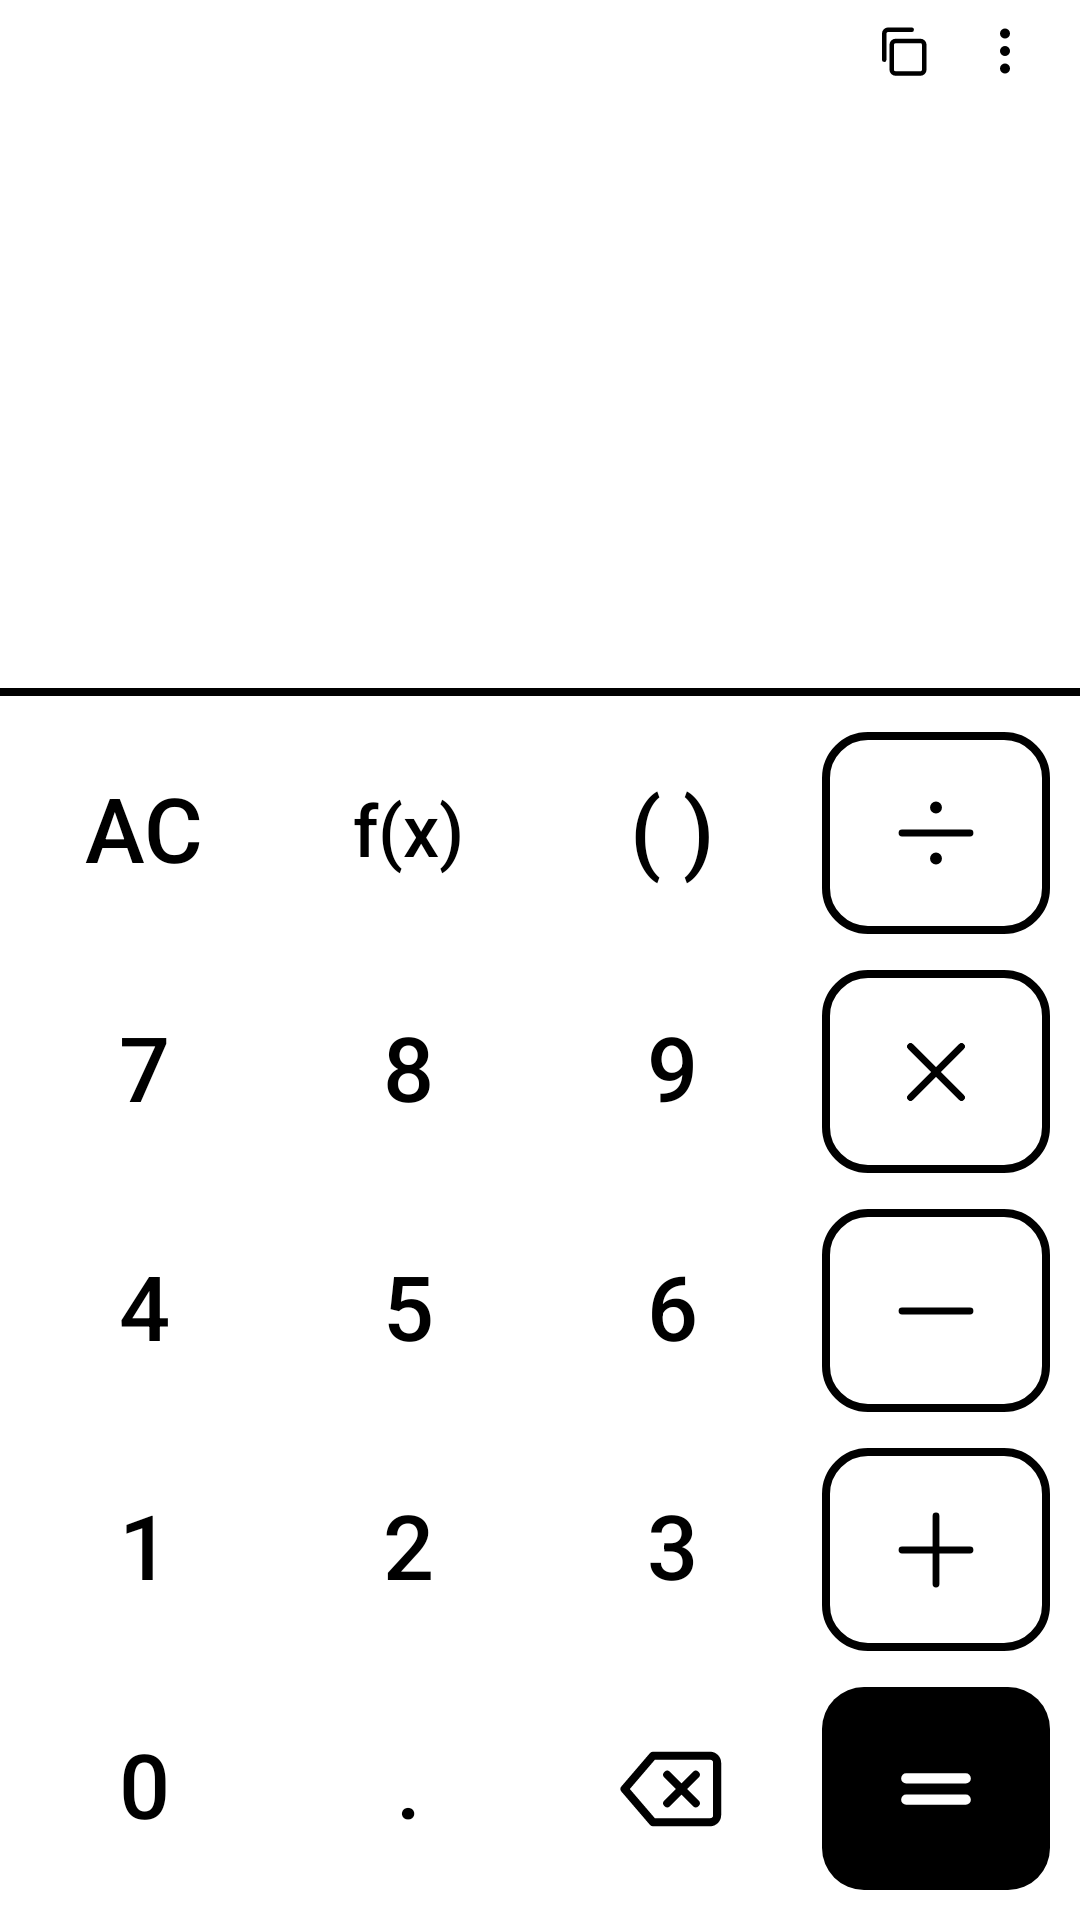

Icon bounding boxes for this 1080x1920 phone screenshot, format Rect(x1, y1, x2, y2):
Copy: Rect(882, 27, 927, 76)
Delete: Rect(620, 1751, 722, 1827)
divide: Rect(822, 732, 1050, 934)
equals: Rect(822, 1687, 1050, 1890)
minus: Rect(822, 1209, 1050, 1412)
multiply: Rect(822, 970, 1050, 1173)
Options: Rect(1000, 28, 1010, 74)
plus: Rect(822, 1448, 1050, 1651)
